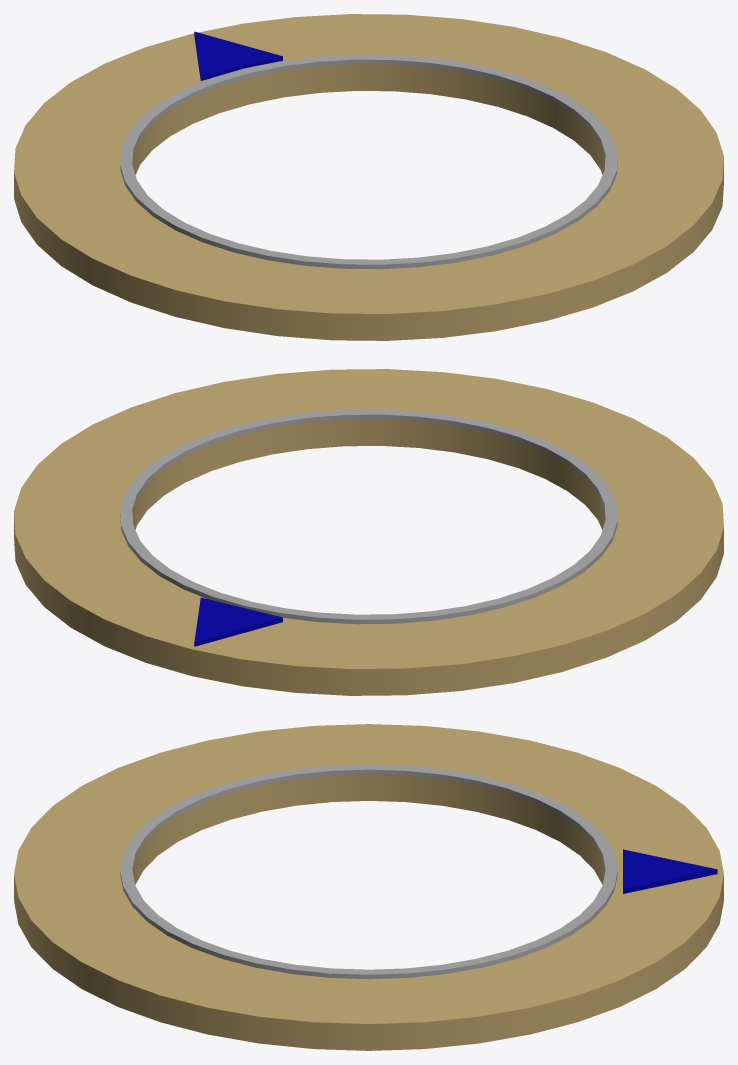
File: BlueRing.fbx
3 renders of one model, top to bottom at view 1: azimuth 30°, elevation 25°; view 2: azimuth 150°, elevation 25°; view 3: azimuth 270°, elevation 25°, orthographic.
Parts seen in each view (by area): view 1: pCube6; view 2: pCube6; view 3: pCube6.
Part boxes in pixels (x1,y1,x2,y2): pCube6: (14, 14, 723, 340); pCube6: (14, 369, 723, 695); pCube6: (14, 724, 723, 1050).
Bounding box in the file's own units: 0.6 × 0.0294 × 0.6.
